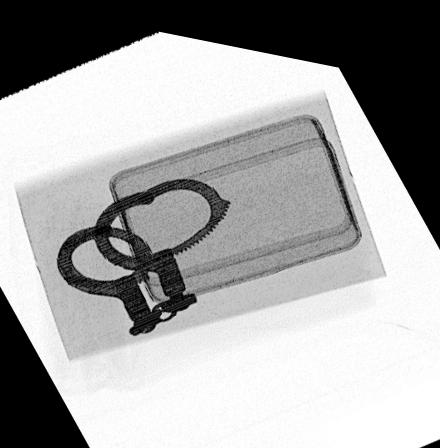HandCuffs: (54, 168, 235, 334)
